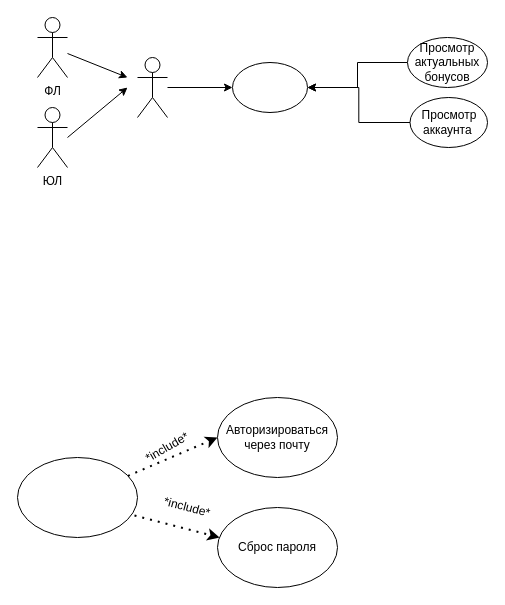
Image size: 505x605. Some labels were removed from this diagram. Each missing label, with the centre of its shape:
Войти в аккаунт: [77,497]
Пользователь: [152,87]
Работа с приложением: [270,87]
